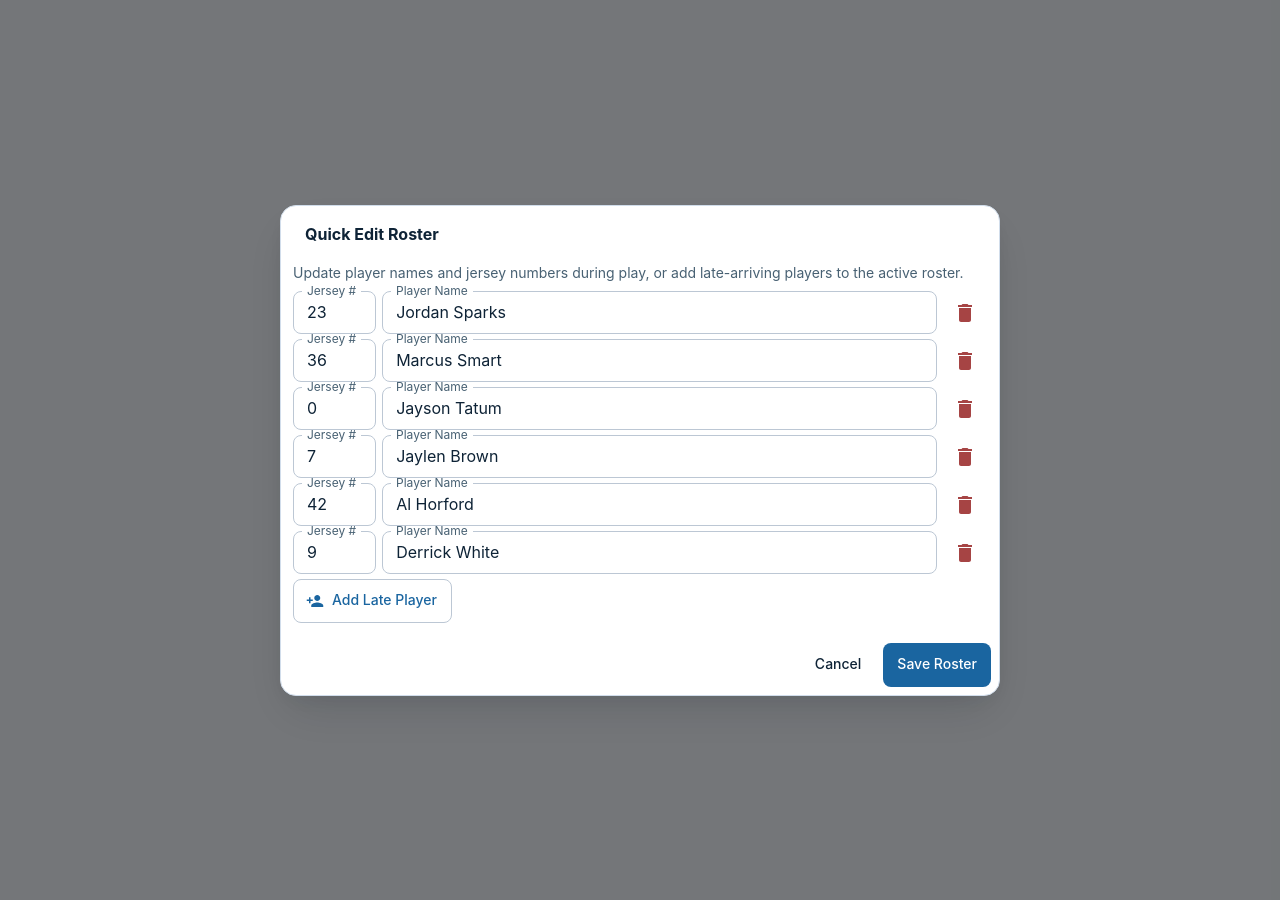
Scenario: QuickEditRosterDialog › validates against duplicate jersey numbers on save
Note: Change Marcus Smart's jersey number to "23" (duplicate)
Replace the text in the 2nd field showing "36" with "23": (335, 360) [293,339,376,382]
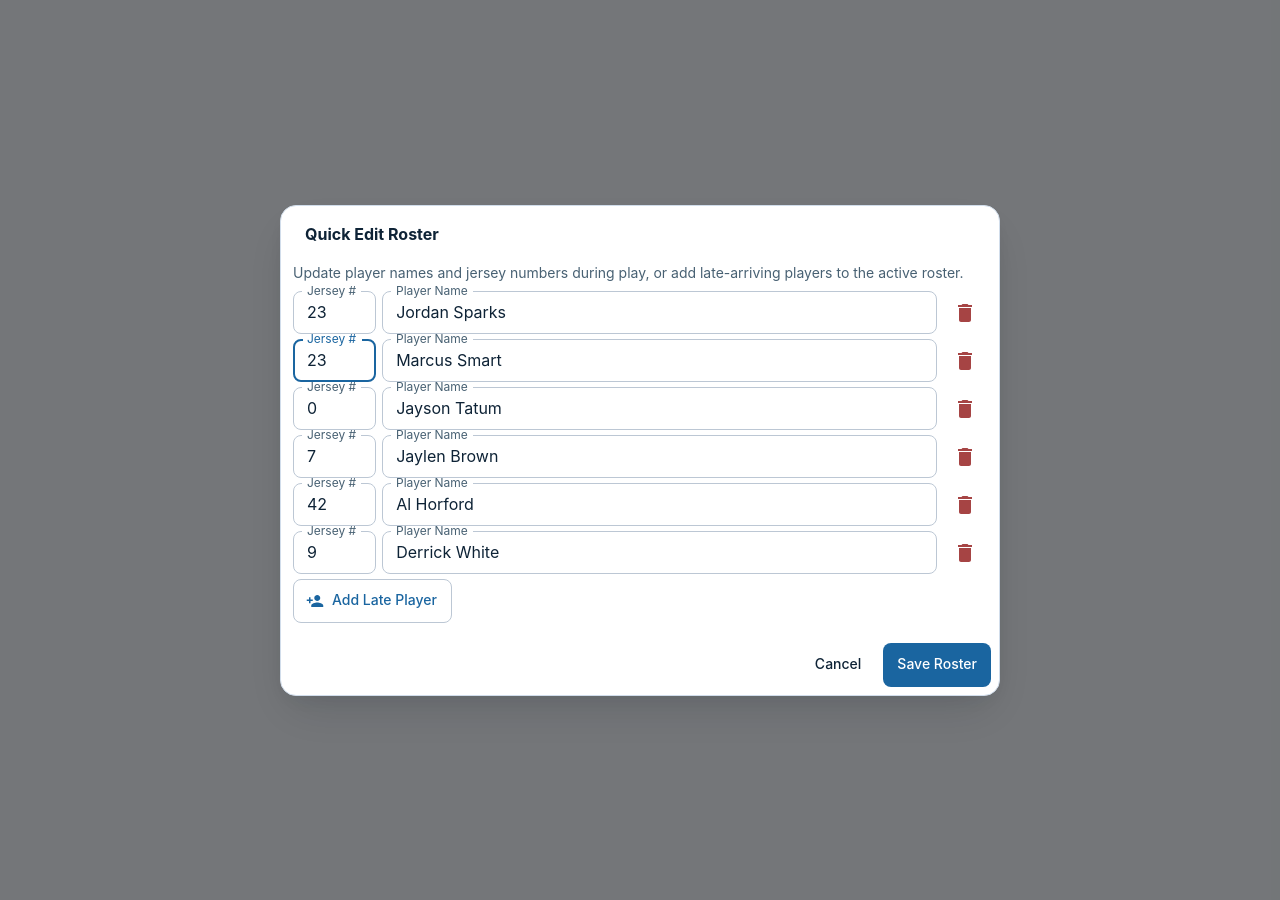
Click the button "Save Roster": click(937, 664) [883,642,991,686]
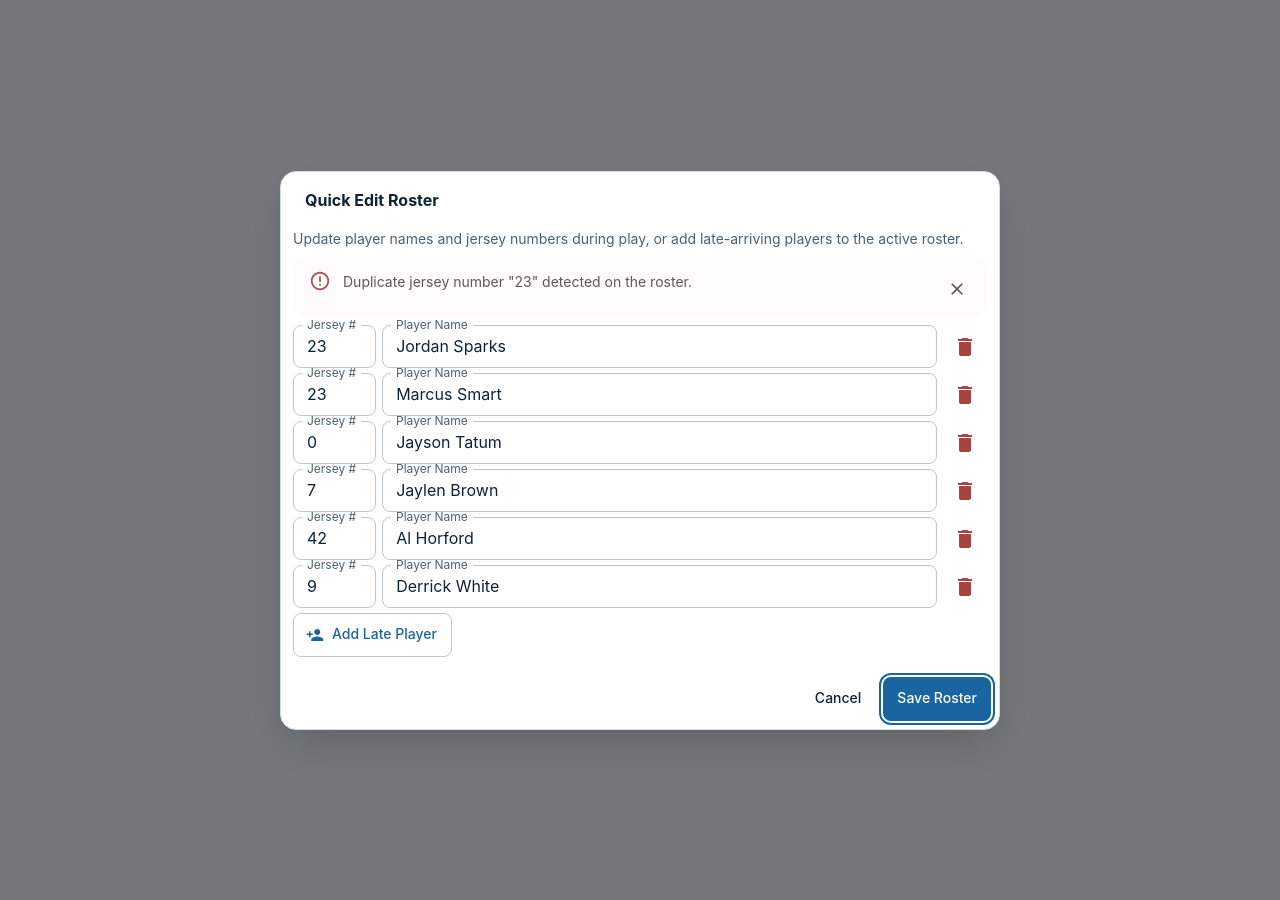
Now the text "Duplicate jersey number \"23\" detected on the roster." is shown, box [343,272,692,290]
